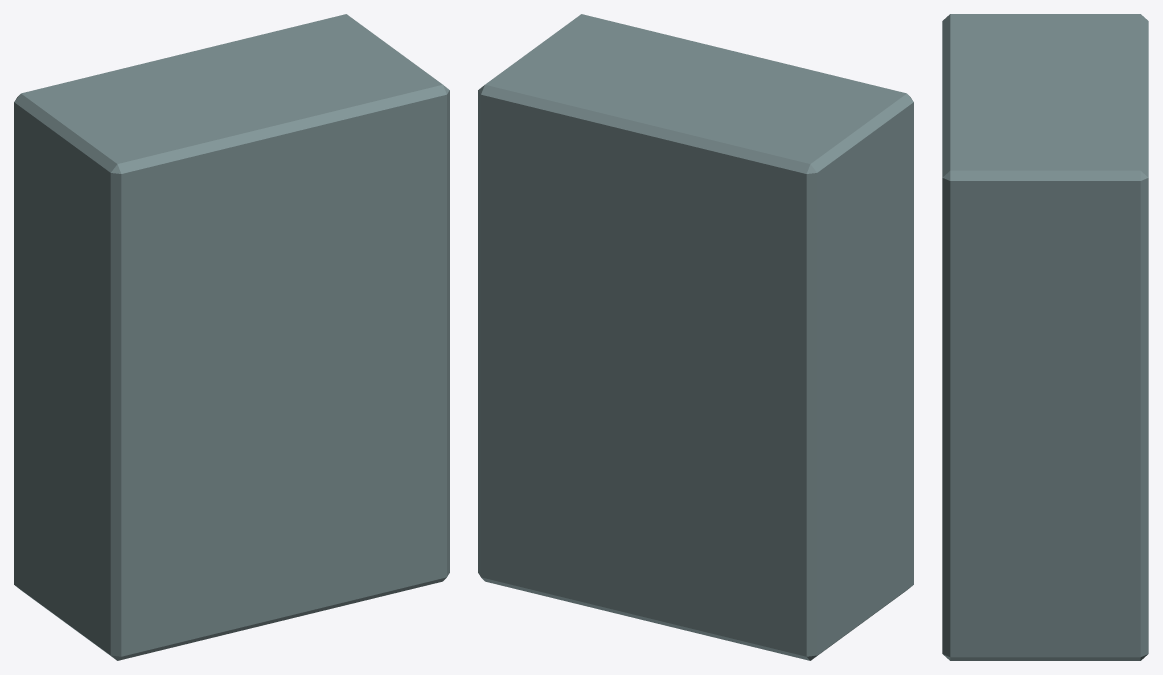
File: RoadPlan_Barrier_EndProtection_CrashCushion.glb
The picture shows the model from 3 angles, left to right: view 1: azimuth 30°, elevation 25°; view 2: azimuth 150°, elevation 25°; view 3: azimuth 270°, elevation 25°; orthographic projection.
Visible parts, largest first — view 1: RoadPlan_Barrier_EndProtection_CrashCushion; view 2: RoadPlan_Barrier_EndProtection_CrashCushion; view 3: RoadPlan_Barrier_EndProtection_CrashCushion.
Part boxes in pixels (<box>): RoadPlan_Barrier_EndProtection_CrashCushion: <box>14,14,449,660</box>; RoadPlan_Barrier_EndProtection_CrashCushion: <box>478,14,913,660</box>; RoadPlan_Barrier_EndProtection_CrashCushion: <box>942,14,1148,660</box>.
Size of the model in its own units: 0.6 by 0.84 by 0.32.
